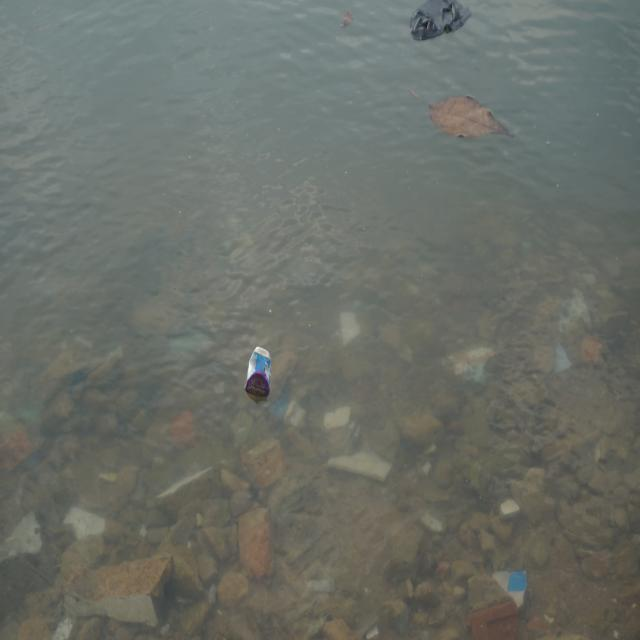Bungkus Minuman: (246, 339, 272, 404)
Kantong Plastik: (410, 1, 473, 46)
